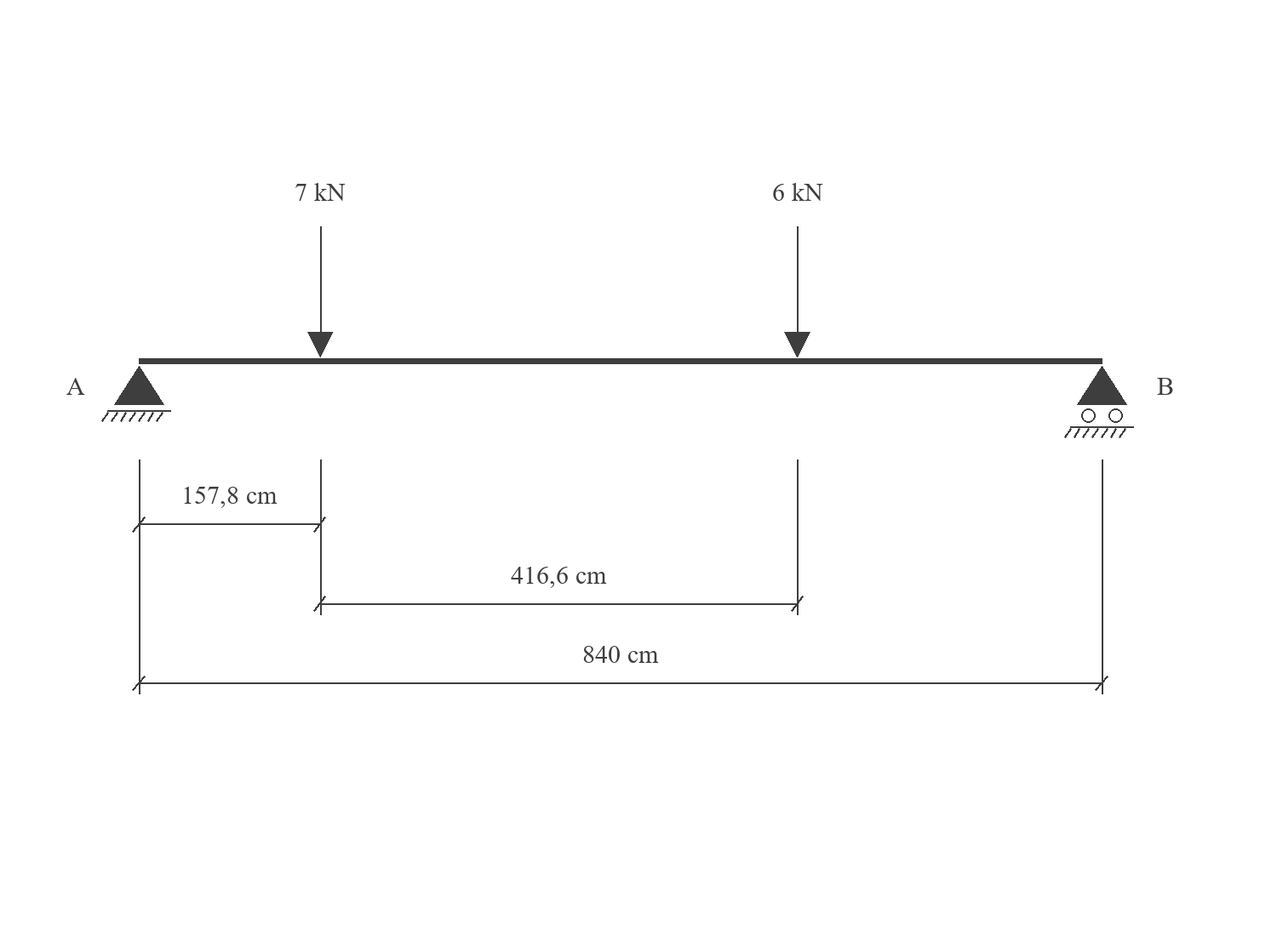pin_support: (101, 366, 171, 422)
point_load: (307, 226, 333, 357), (784, 226, 810, 357)
roller_support: (1064, 366, 1134, 438)
